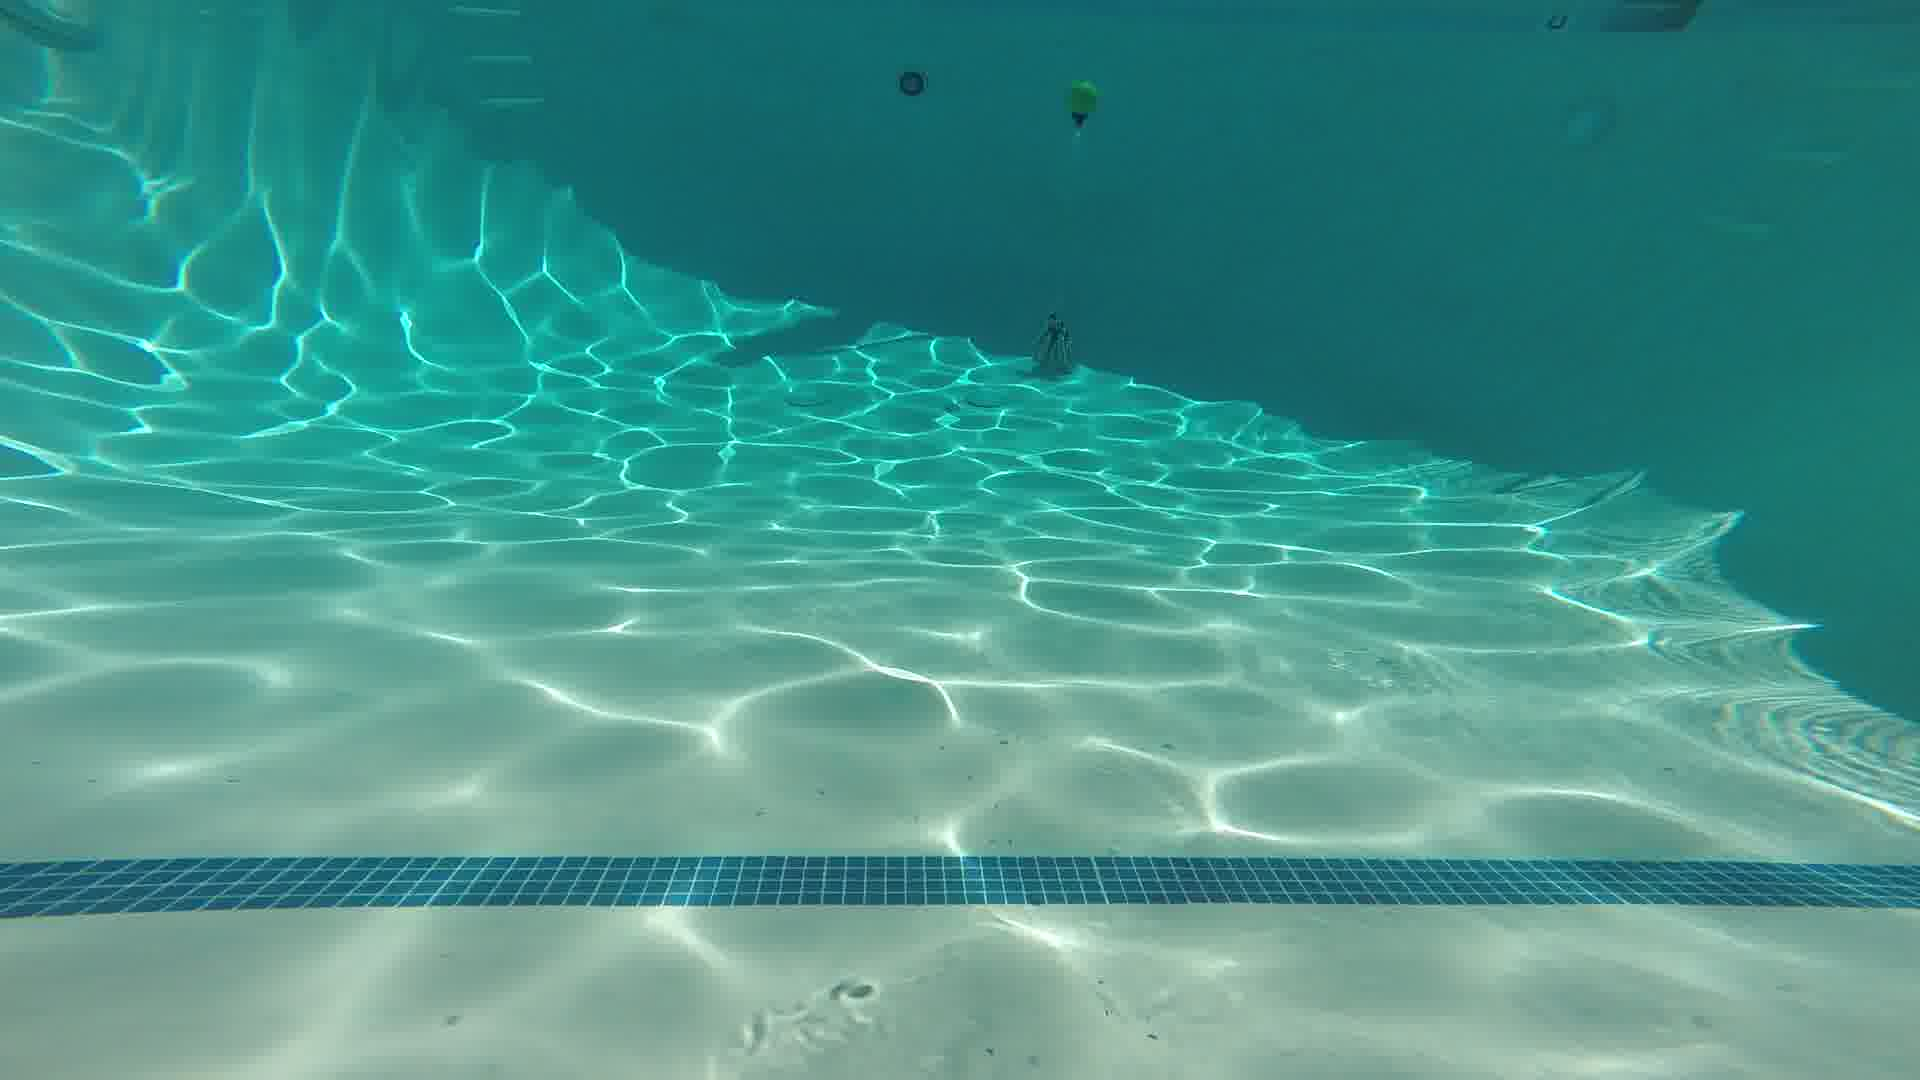yellow buoy: (1058, 69, 1112, 146)
